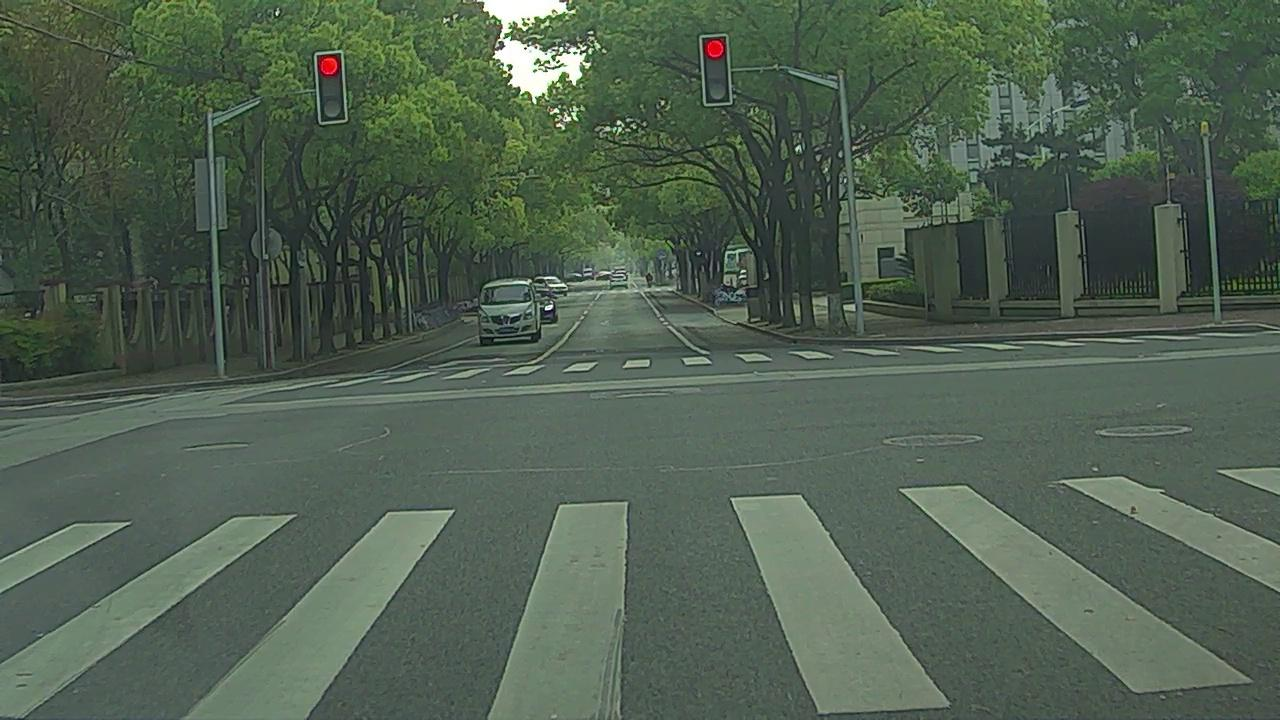traffic_light: (316, 56, 346, 120), (703, 37, 731, 104)
